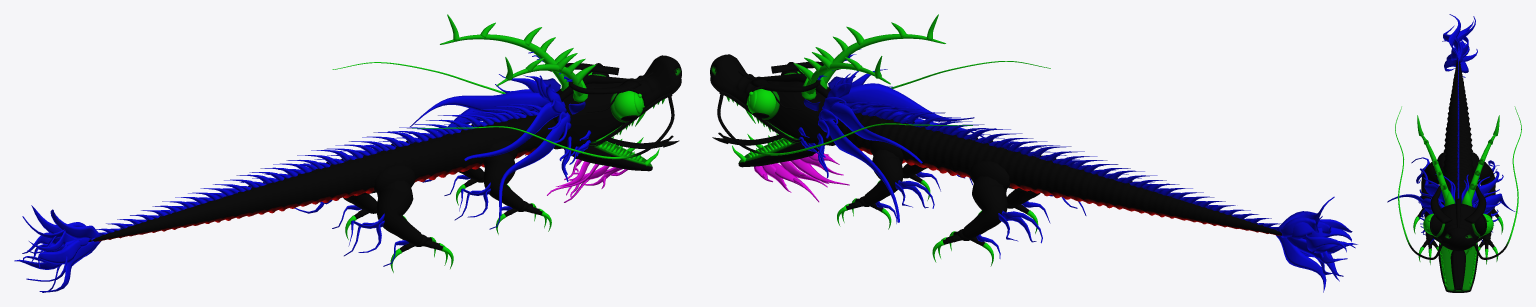
File: dragon303.glb
3 renders of one model, left to right at view 1: azimuth 30°, elevation 25°; view 2: azimuth 150°, elevation 25°; view 3: azimuth 270°, elevation 25°, orthographic. The views are drawn at different scales.
Visible parts, largest first — view 1: d303-dragon; view 2: d303-dragon; view 3: d303-dragon.
Part boxes in pixels (x1,y1,x2,y2): d303-dragon: (14,14,681,292); d303-dragon: (710,14,1357,292); d303-dragon: (1387,14,1521,292).
Size of the model in its own units: 32 by 9.41 by 8.12.
